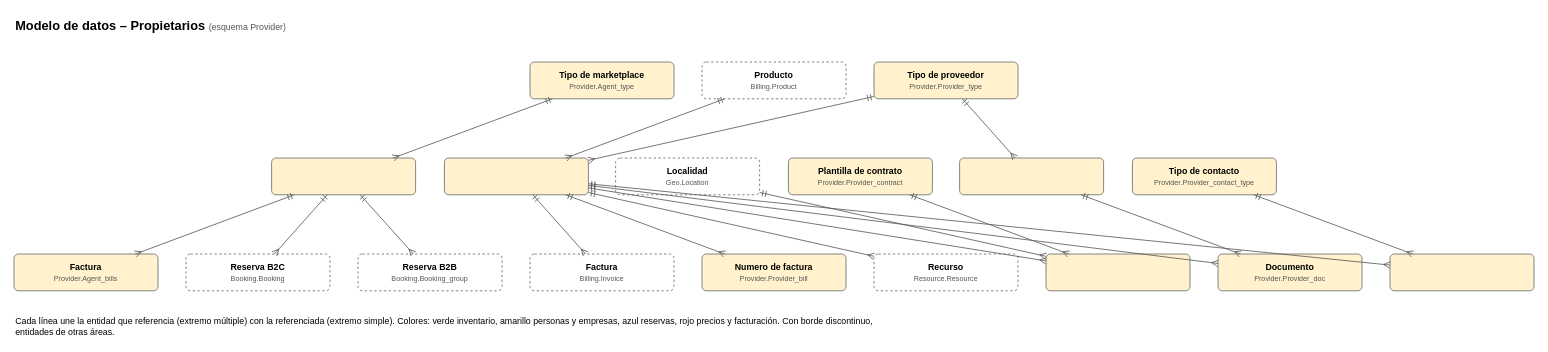
Some shapes in this 1548 by 352 pixel diagram are drawn without their labels. The shapes that lost their labels are listed below. From the top down, each one's centre as x and y in pixels, then its label:
the point at 343,176: Marketplace Provider.Agent
the point at 516,176: Propietario Provider.Provider
the point at 1031,176: Tipo de documento Provider.Provider_doc_type
the point at 1117,272: Plantilla de contrato Provider.Provider_template
the point at 1461,272: Contacto Provider.Provider_contact
